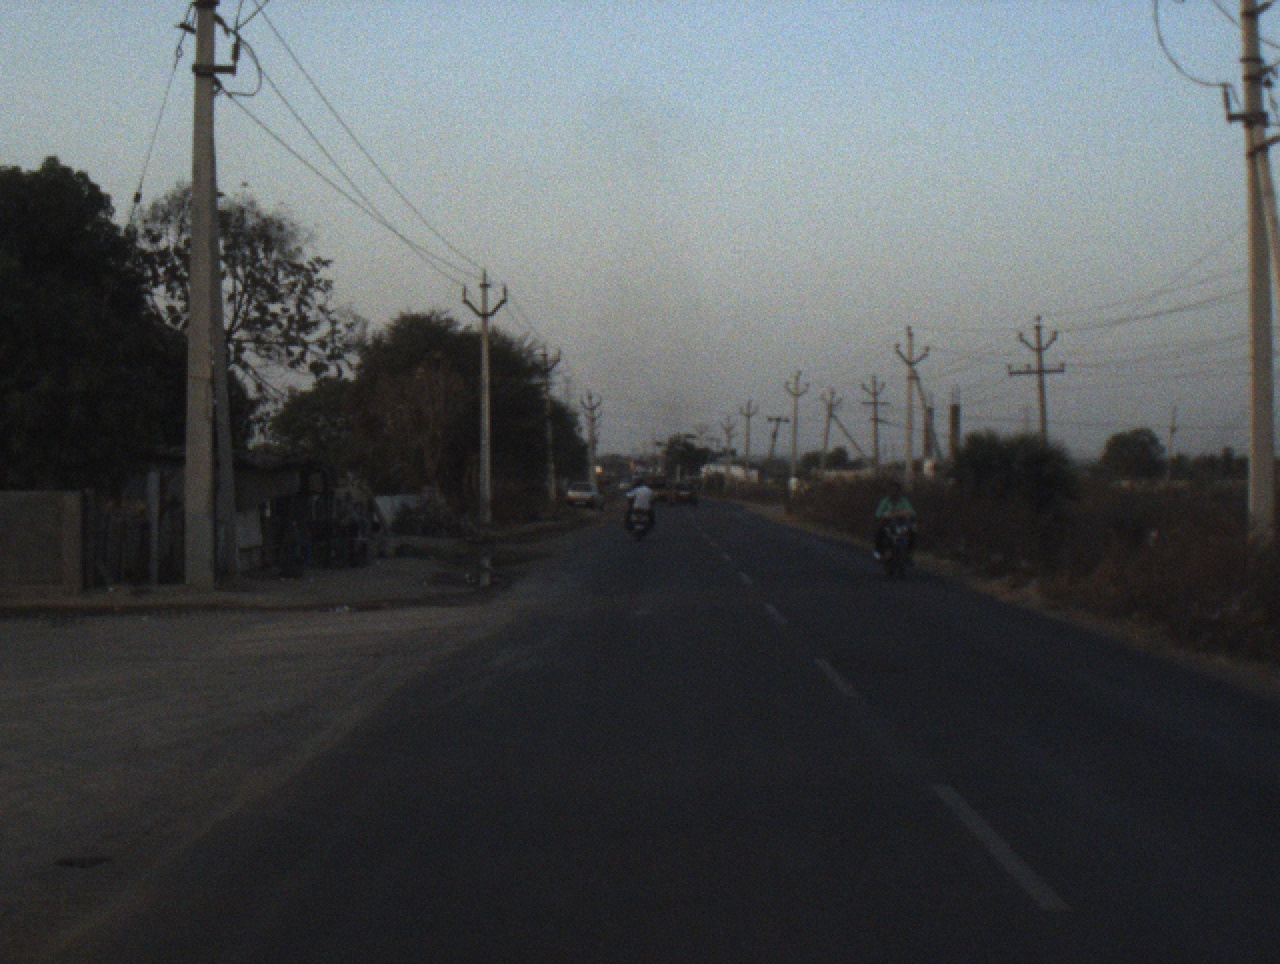autorickshaw: (641, 472, 670, 504)
car: (566, 482, 605, 515), (666, 480, 701, 510), (619, 475, 637, 491)
motorcycle: (872, 507, 919, 584), (622, 507, 656, 542)
rider: (873, 484, 917, 563), (628, 478, 658, 536)
